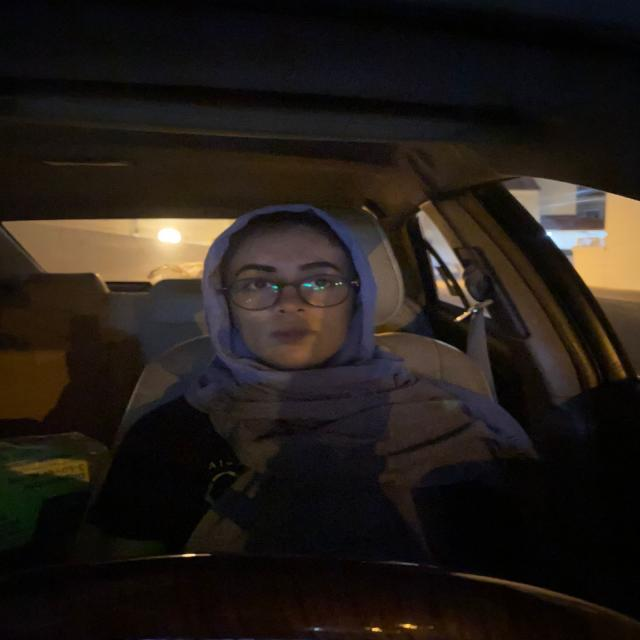person: (200, 204, 375, 371)
